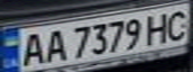3: (87, 20, 112, 56)
7: (66, 24, 90, 60), (106, 17, 127, 53)
9: (121, 16, 148, 50)
A: (15, 29, 48, 66), (39, 27, 69, 63)
C: (160, 7, 193, 43)
H: (142, 10, 175, 45)
